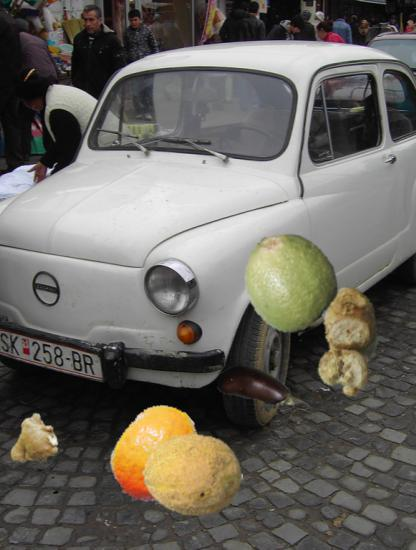Cantaloupe: (142, 424, 243, 525)
Eggplant: (215, 345, 297, 427)
Ginger: (290, 286, 404, 400), (6, 415, 58, 467)
Limes: (240, 231, 338, 329)
Mandarine: (107, 406, 208, 507)
